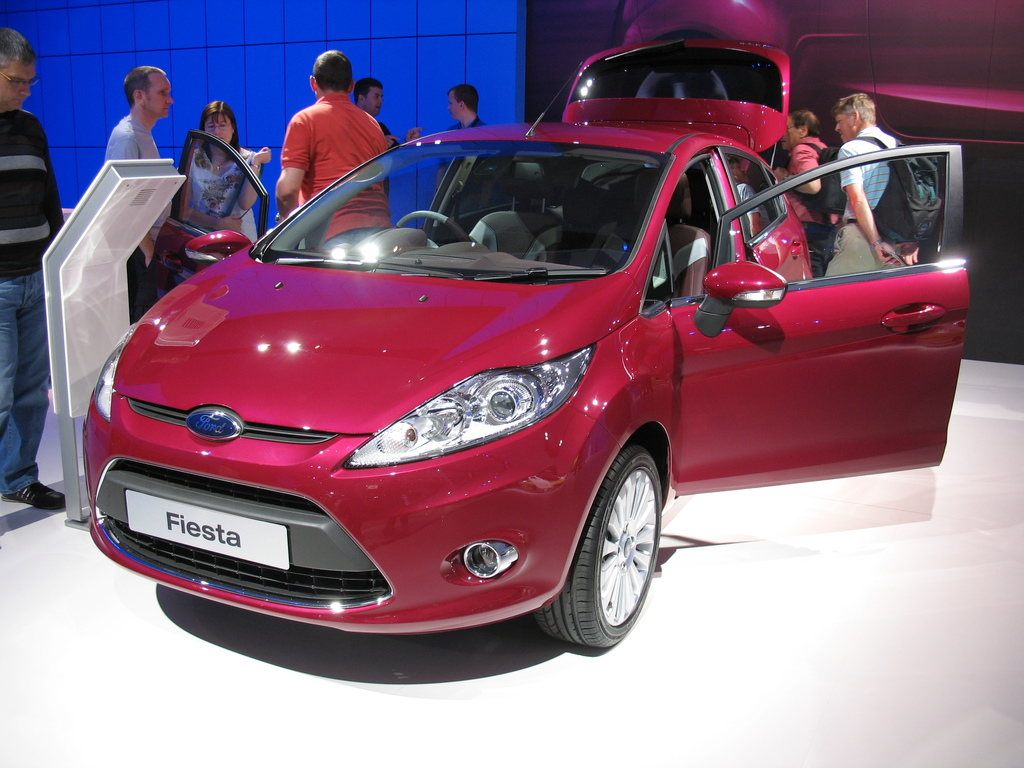Person: (0, 28, 919, 509)
